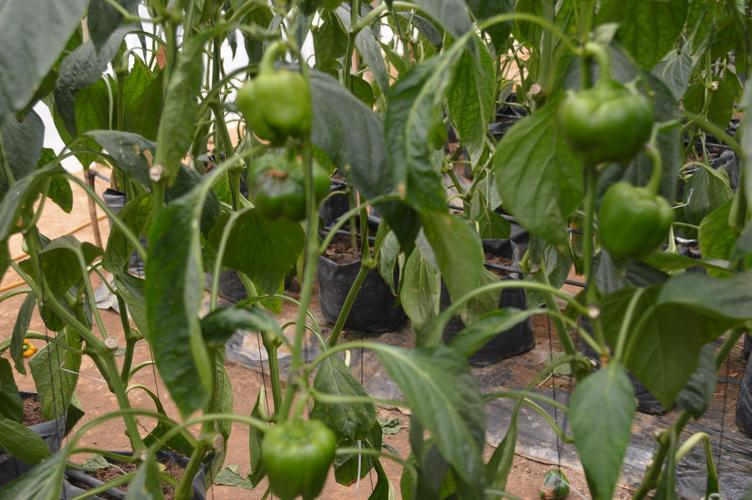BellPepper: (546, 78, 657, 164), (235, 154, 329, 236), (589, 182, 669, 266), (235, 70, 307, 141), (251, 422, 318, 494)
